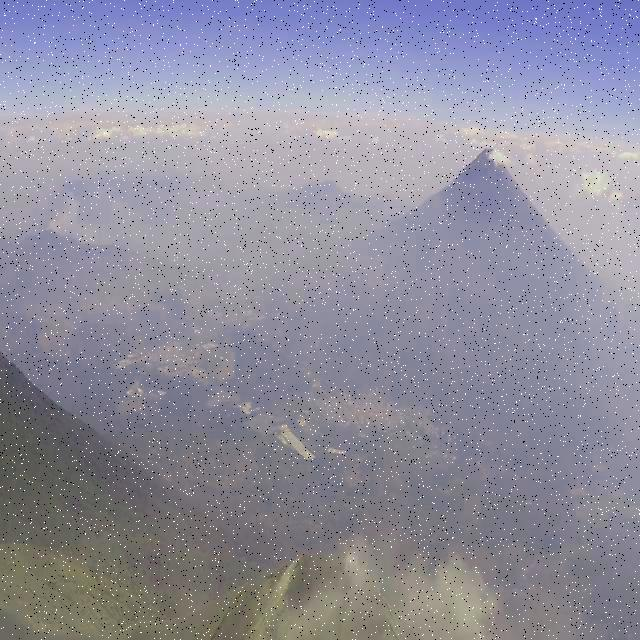Summit: (120, 551, 458, 640)
